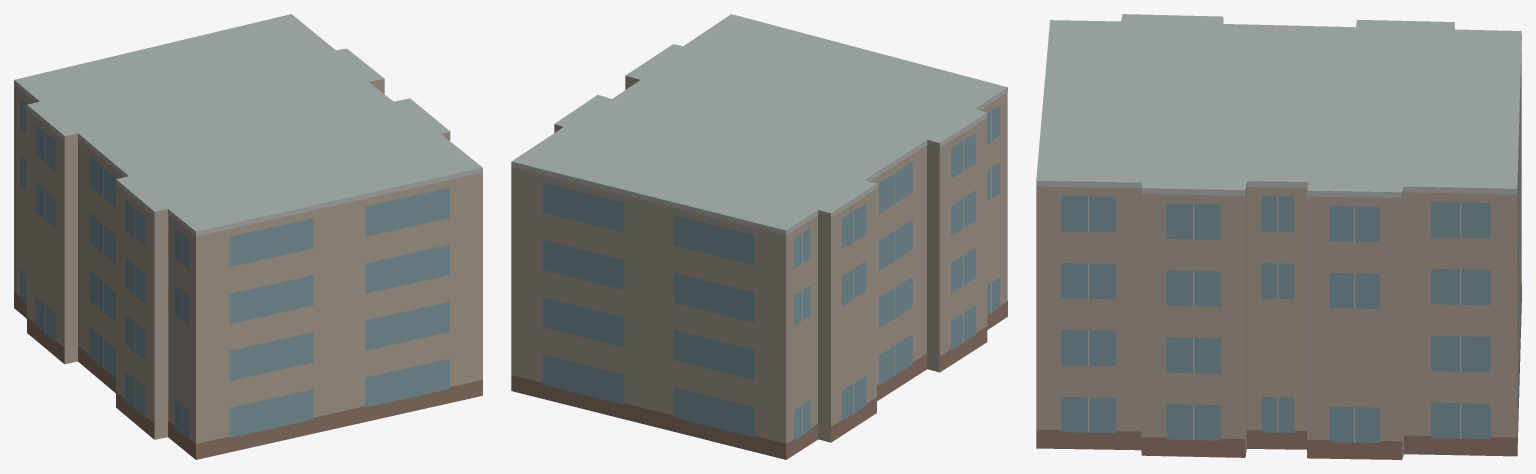
File: survey-upis-32903817.glb
3 renders of one model, left to right at view 1: azimuth 30°, elevation 25°; view 2: azimuth 150°, elevation 25°; view 3: azimuth 270°, elevation 25°, orthographic. The views are drawn at different scales.
Parts seen in each view (by area): view 1: survey-upis-32903817.tmp; view 2: survey-upis-32903817.tmp; view 3: survey-upis-32903817.tmp.
Part boxes in pixels (x1=…): survey-upis-32903817.tmp: x1=14, y1=14, x2=482, y2=459; survey-upis-32903817.tmp: x1=511, y1=14, x2=1007, y2=459; survey-upis-32903817.tmp: x1=1036, y1=14, x2=1521, y2=459.
Size of the model in its own units: 16.08 by 11.25 by 18.51.
